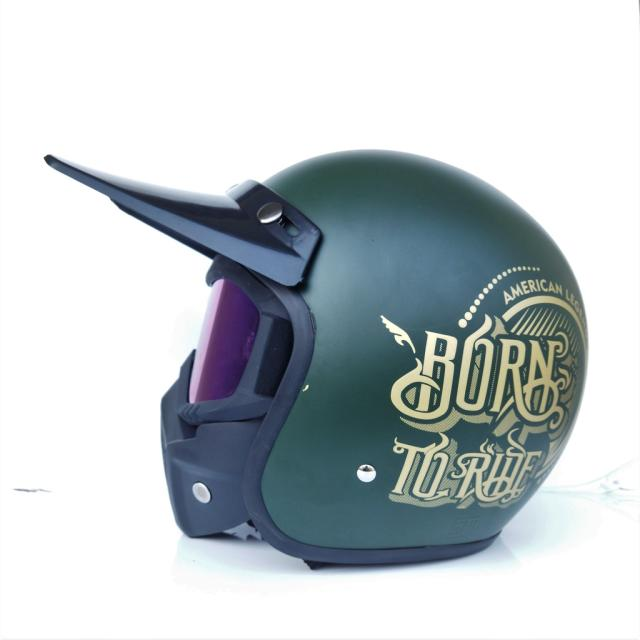Helm: (36, 148, 590, 572)
